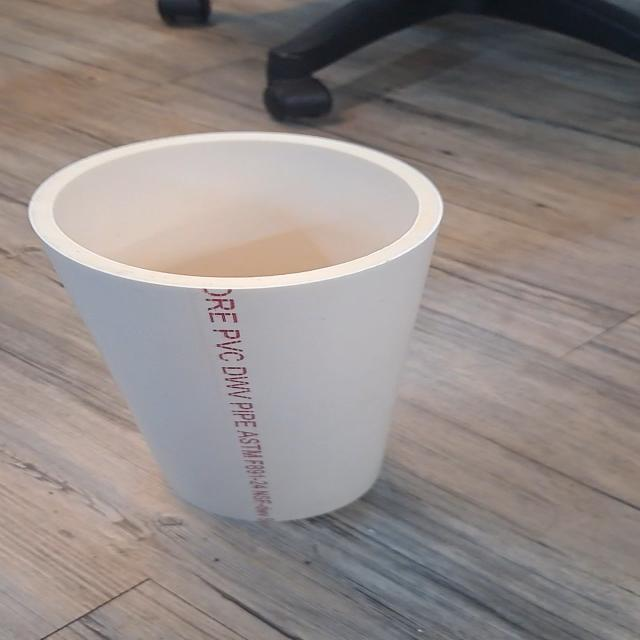CORAL: (15, 125, 478, 530)
